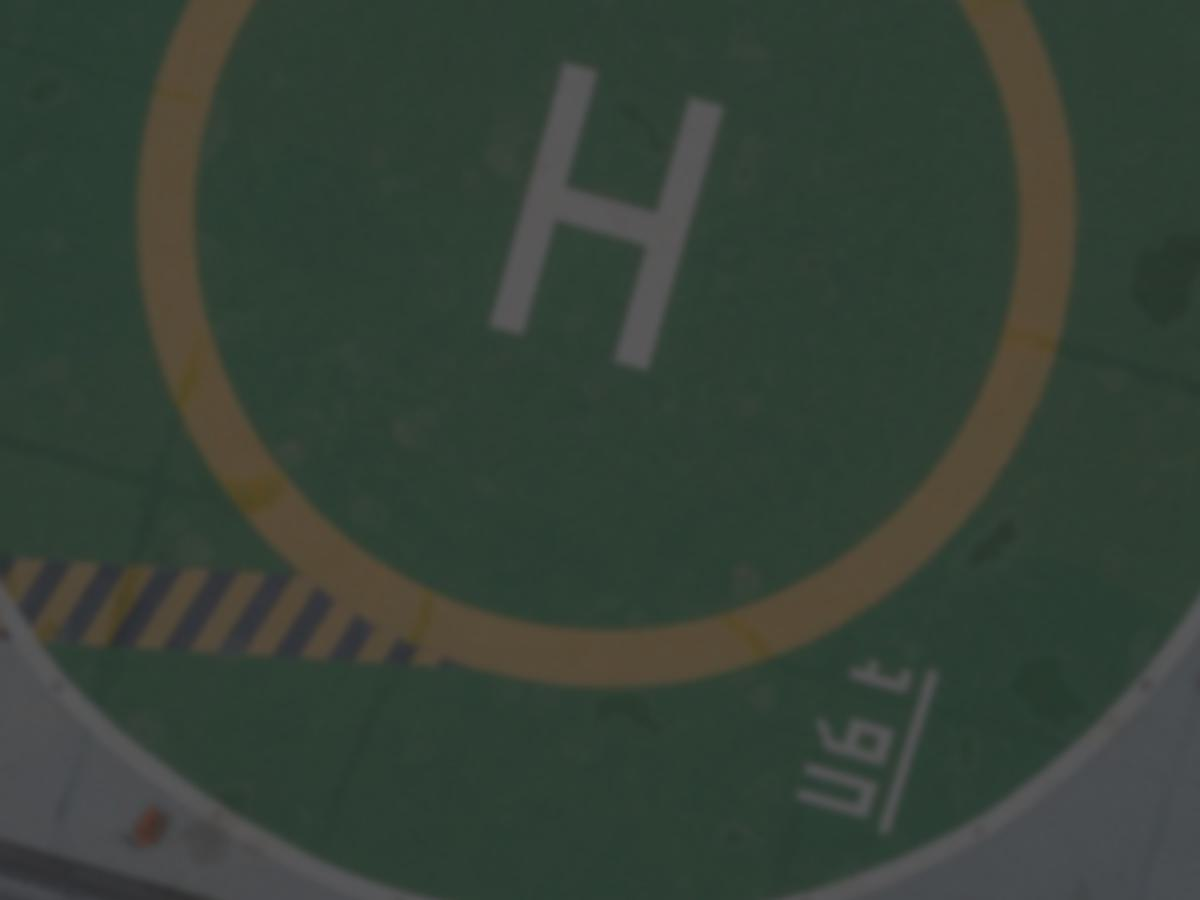Apron: (107, 3, 1096, 701)
